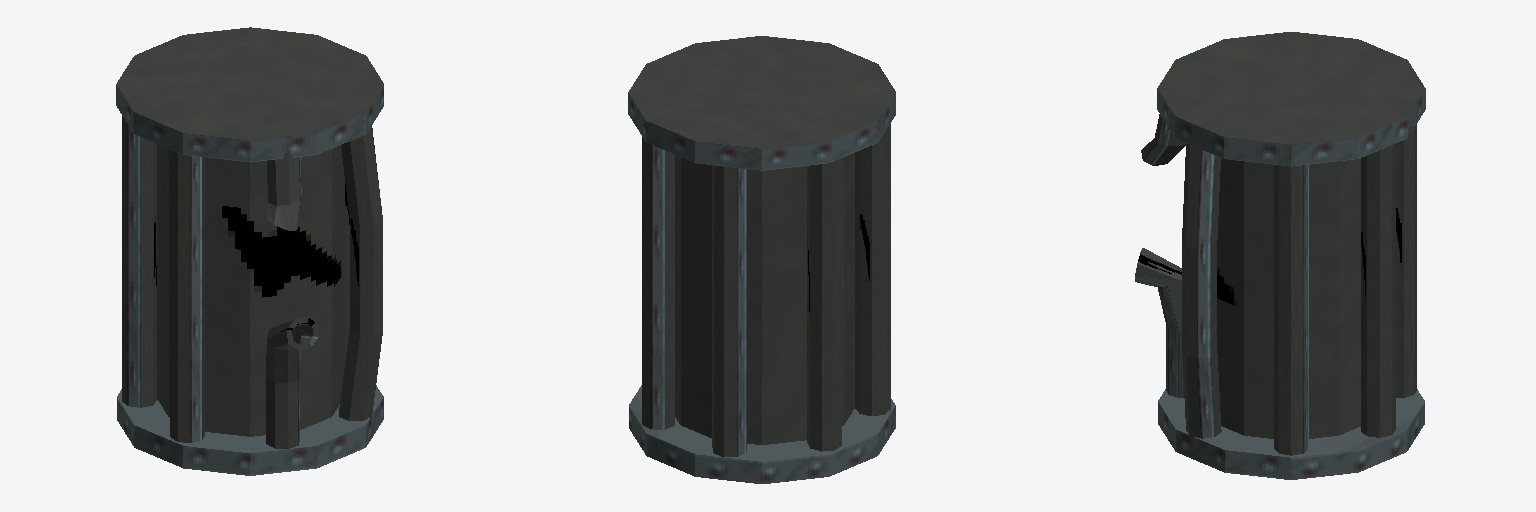
The picture shows the model from 3 angles: view 1: azimuth 30°, elevation 25°; view 2: azimuth 150°, elevation 25°; view 3: azimuth 270°, elevation 25°; orthographic projection.
Parts seen in each view (by area): view 1: Cylinder, Cylinder.001; view 2: Cylinder, Cylinder.001; view 3: Cylinder, Cylinder.001.
Boxes of the visible parts, x1,y1,x2,y2 form: Cylinder: [116, 27, 383, 475]; Cylinder.001: [122, 116, 382, 448]; Cylinder: [628, 36, 895, 483]; Cylinder.001: [642, 123, 890, 456]; Cylinder: [1157, 32, 1425, 479]; Cylinder.001: [1135, 114, 1416, 455].
Size of the model in its own units: 2.17 by 3 by 2.36.
1 materials, 1 textured.